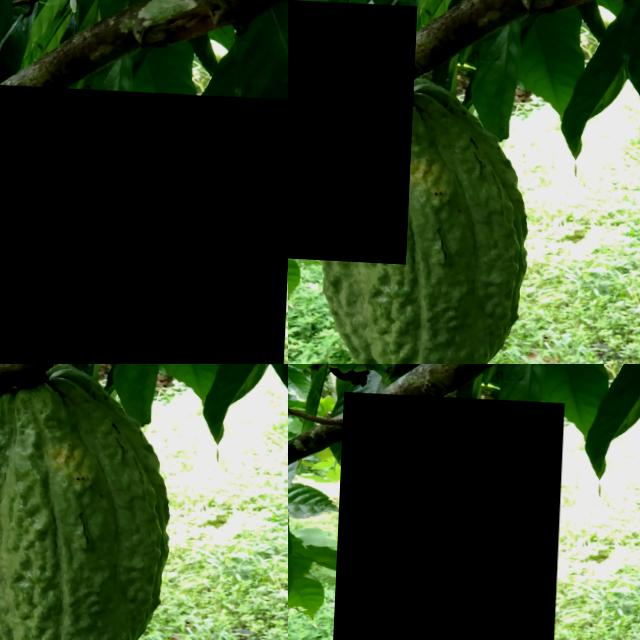Monilia: (334, 390, 565, 640)
Sana: (0, 82, 288, 364), (288, 0, 418, 261), (242, 364, 288, 483), (29, 557, 80, 632), (50, 447, 93, 506), (26, 443, 45, 500), (0, 525, 31, 557)
